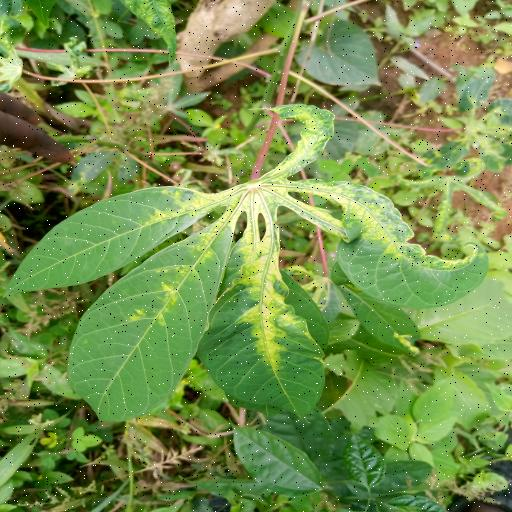Cassava_Mosaic: (14, 102, 490, 426)
